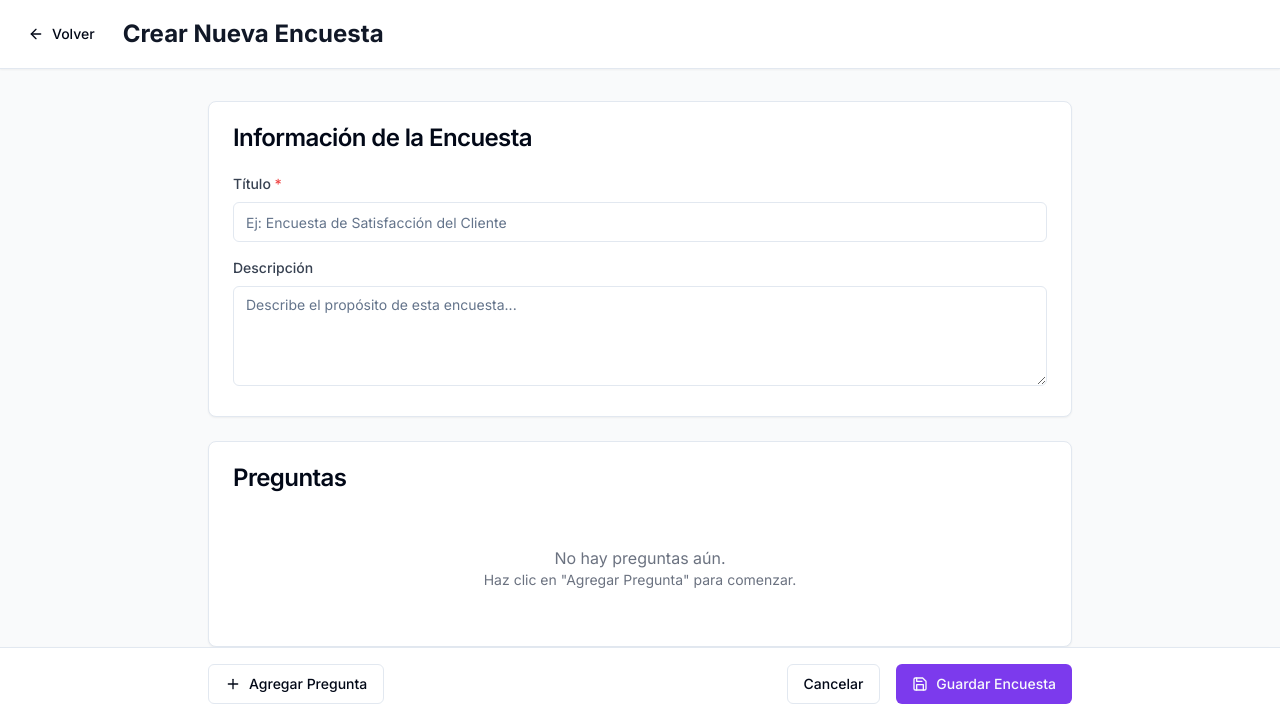
Scenario: NewSurveyPage › shows validation error without questions
The width and height of the screenshot is (1280, 720).
In the field with placeholder "Ej: Encuesta de Satisfacción del Cliente": [640, 222] box [233, 202, 1047, 242], type "Test Survey"
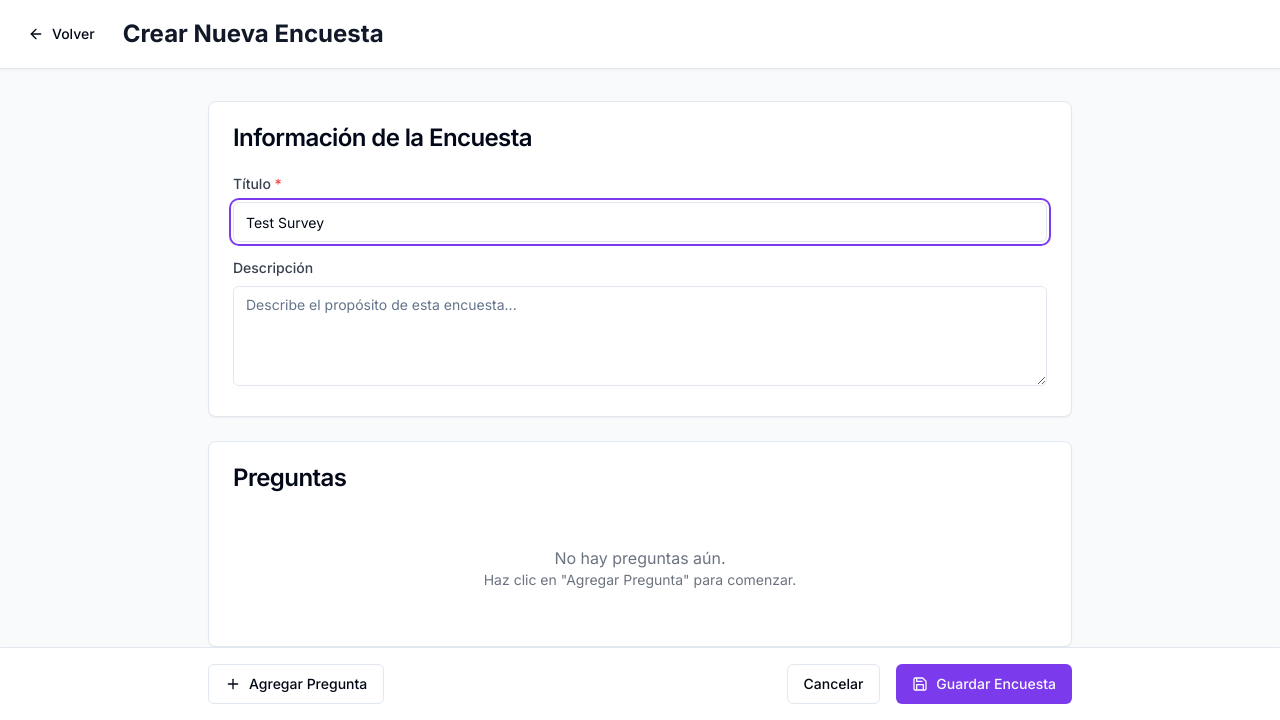
Click the button "Guardar Encuesta": [984, 684] box [896, 664, 1072, 704]
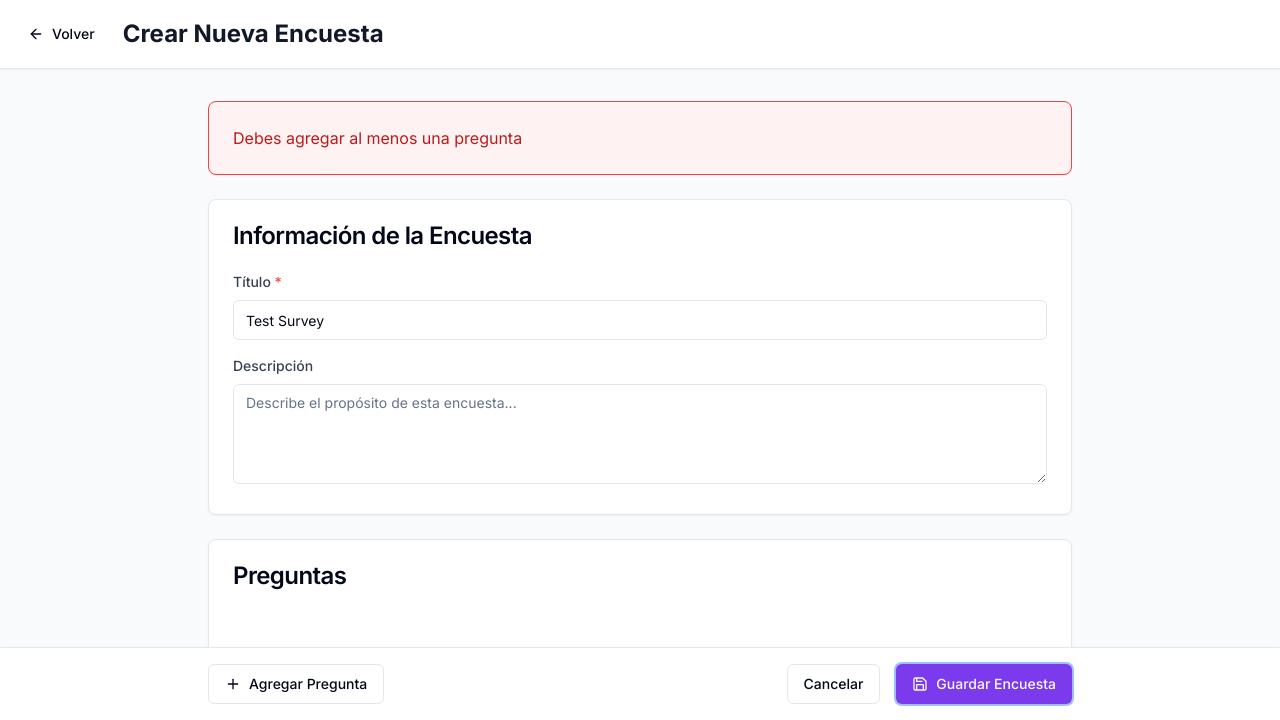
Expected: the text "Debes agregar al menos una pregunta" is shown, [233, 128, 522, 148]
